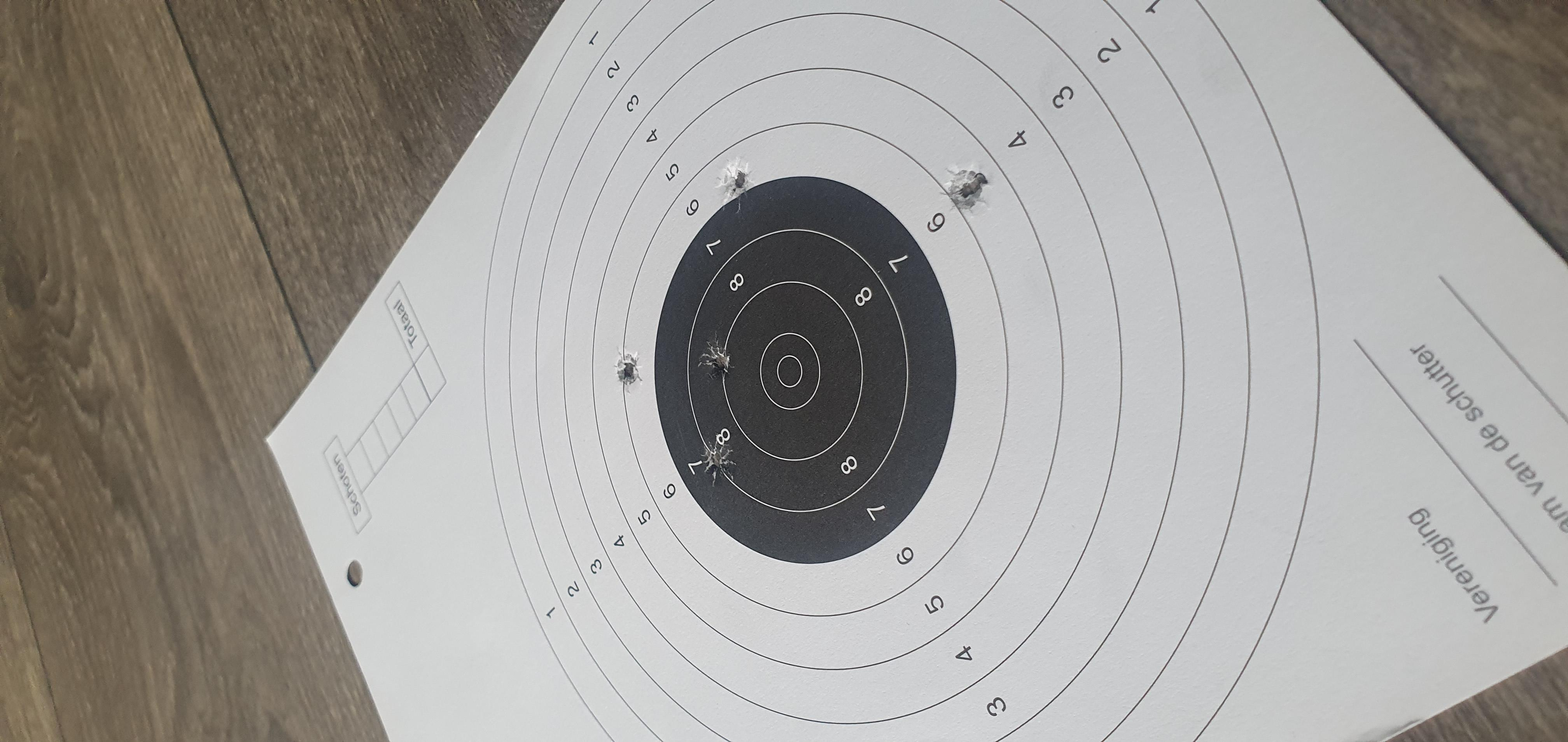hole: (1115, 445, 1229, 468), (1117, 339, 1243, 357), (749, 329, 859, 348), (534, 332, 639, 349), (739, 290, 839, 305)
